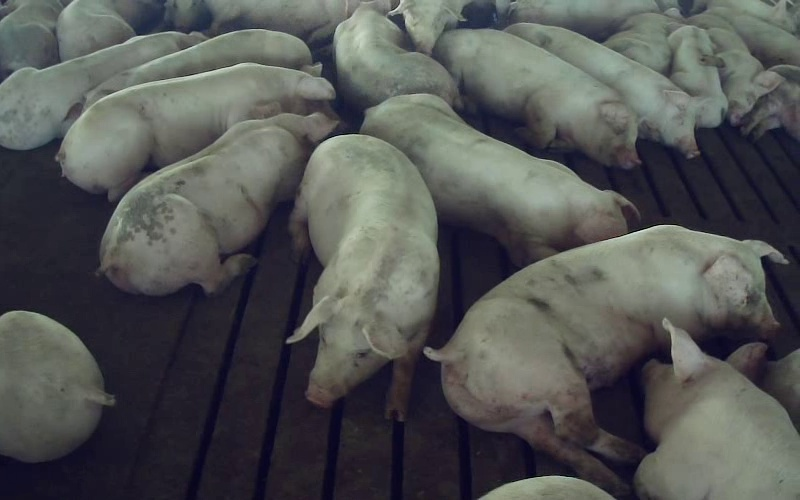pig: (424, 225, 784, 494), (361, 96, 637, 265), (288, 136, 438, 421), (57, 63, 335, 200), (635, 320, 799, 499), (433, 29, 639, 168), (505, 23, 698, 158), (63, 29, 311, 134), (0, 32, 205, 149), (333, 3, 458, 109), (687, 13, 781, 125), (56, 0, 160, 60), (668, 25, 727, 127), (604, 13, 681, 74)
